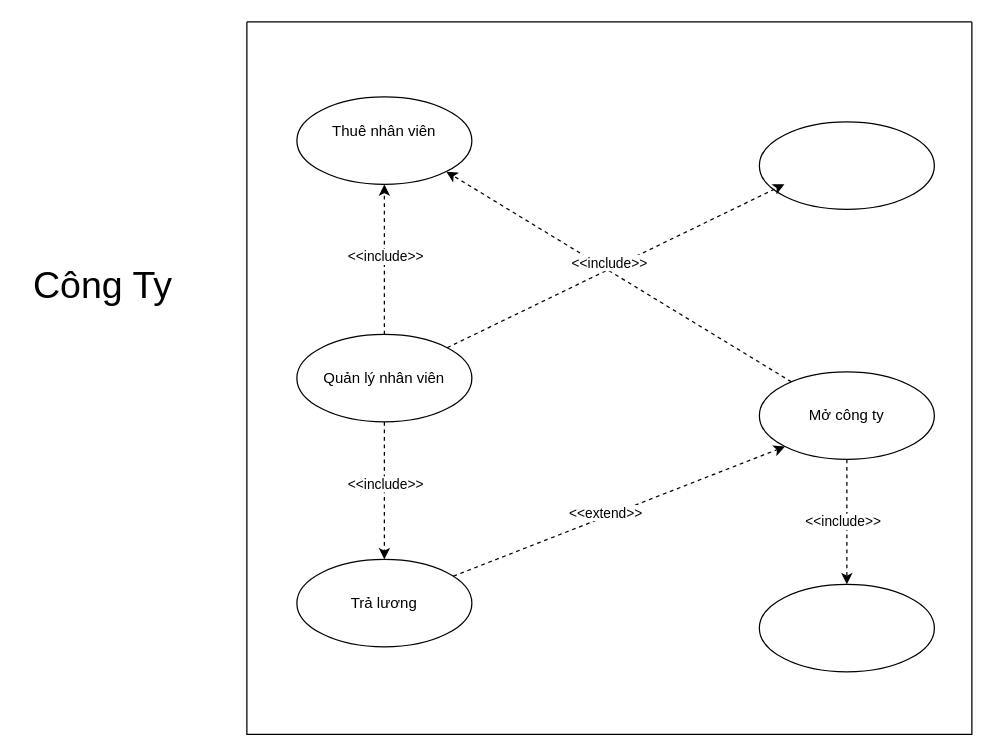
The diagram is 994 pixels wide and 756 high, and some of its shapes have lost their labels. The shapes that lost their labels are listed below. From the top down, each one's box as (x1, y1, x2, y2) in pixels, then its label:
(758, 121, 934, 209): Sa thải
(758, 583, 934, 672): Nâng cấp công ty
